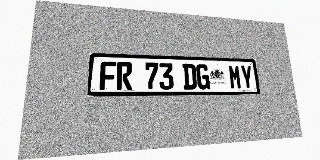3: (159, 63, 174, 90)
7: (144, 62, 159, 90)
D: (182, 63, 197, 90)
F: (99, 61, 116, 90)
G: (196, 64, 210, 89)
M: (228, 65, 242, 89)
R: (116, 62, 132, 90)
Y: (240, 65, 254, 89)
